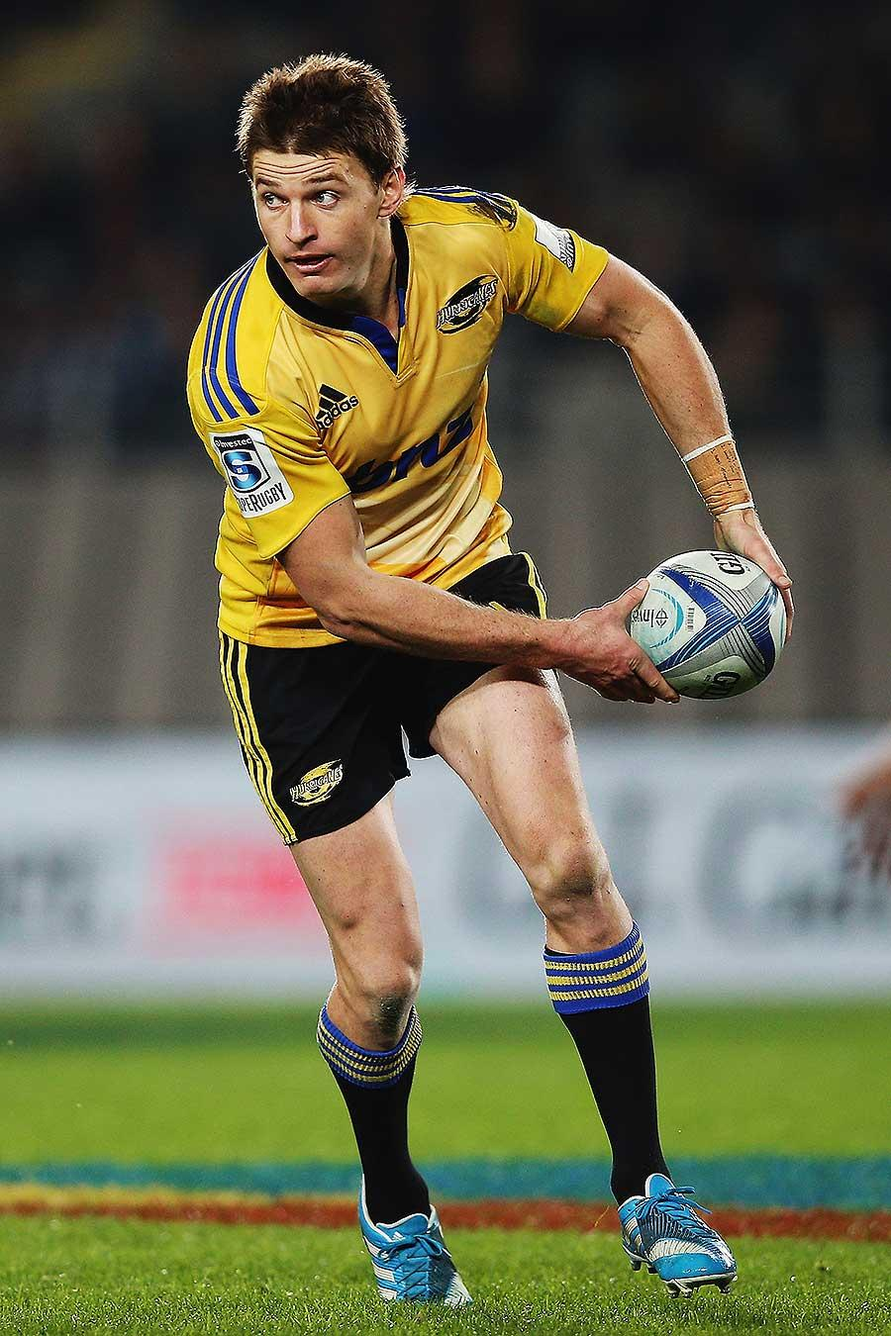ballon_rugby: (620, 542, 800, 709)
